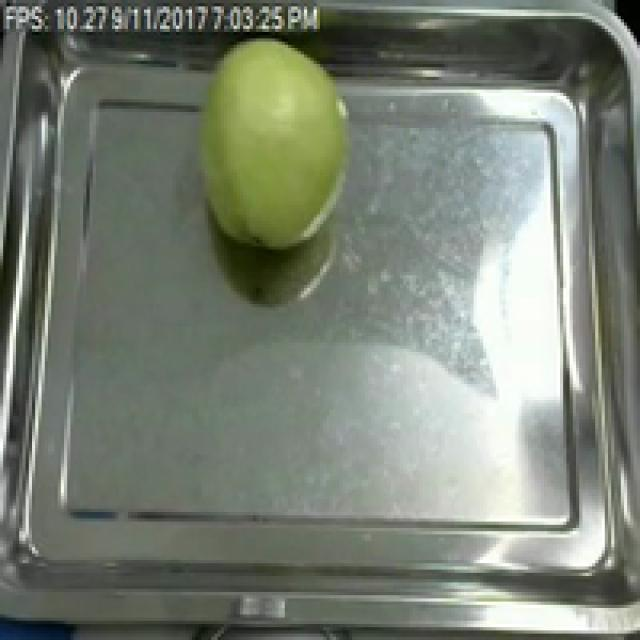Fruit: (182, 32, 362, 259)
